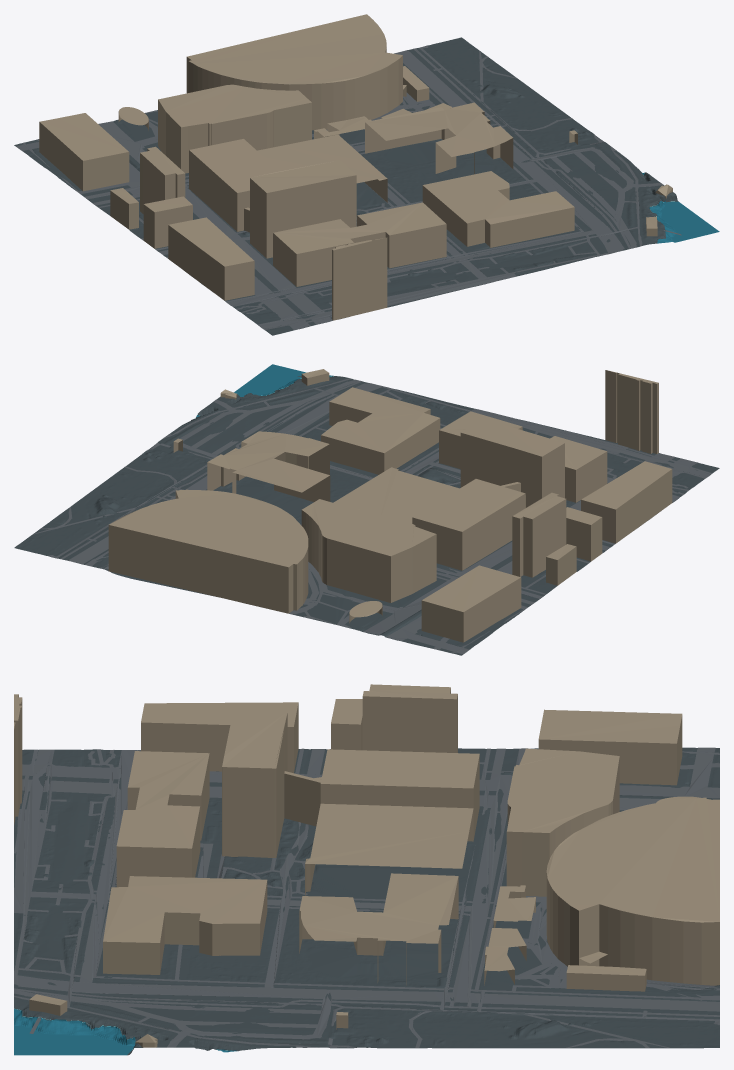
The model's file is epsg26910-1442-10886.lod0.glb.
3 renders of one model, top to bottom at view 1: azimuth 30°, elevation 25°; view 2: azimuth 150°, elevation 25°; view 3: azimuth 270°, elevation 25°, orthographic. The views are drawn at different scales.
Visible parts, largest first — view 1: epsg26910-1442-10886-lod0; view 2: epsg26910-1442-10886-lod0; view 3: epsg26910-1442-10886-lod0.
Part boxes in pixels (x1,y1,x2,y2): epsg26910-1442-10886-lod0: [14, 14, 719, 335]; epsg26910-1442-10886-lod0: [14, 364, 719, 655]; epsg26910-1442-10886-lod0: [14, 684, 719, 1055].
Bounding box in the file's own units: 384 × 62.27 × 384.
